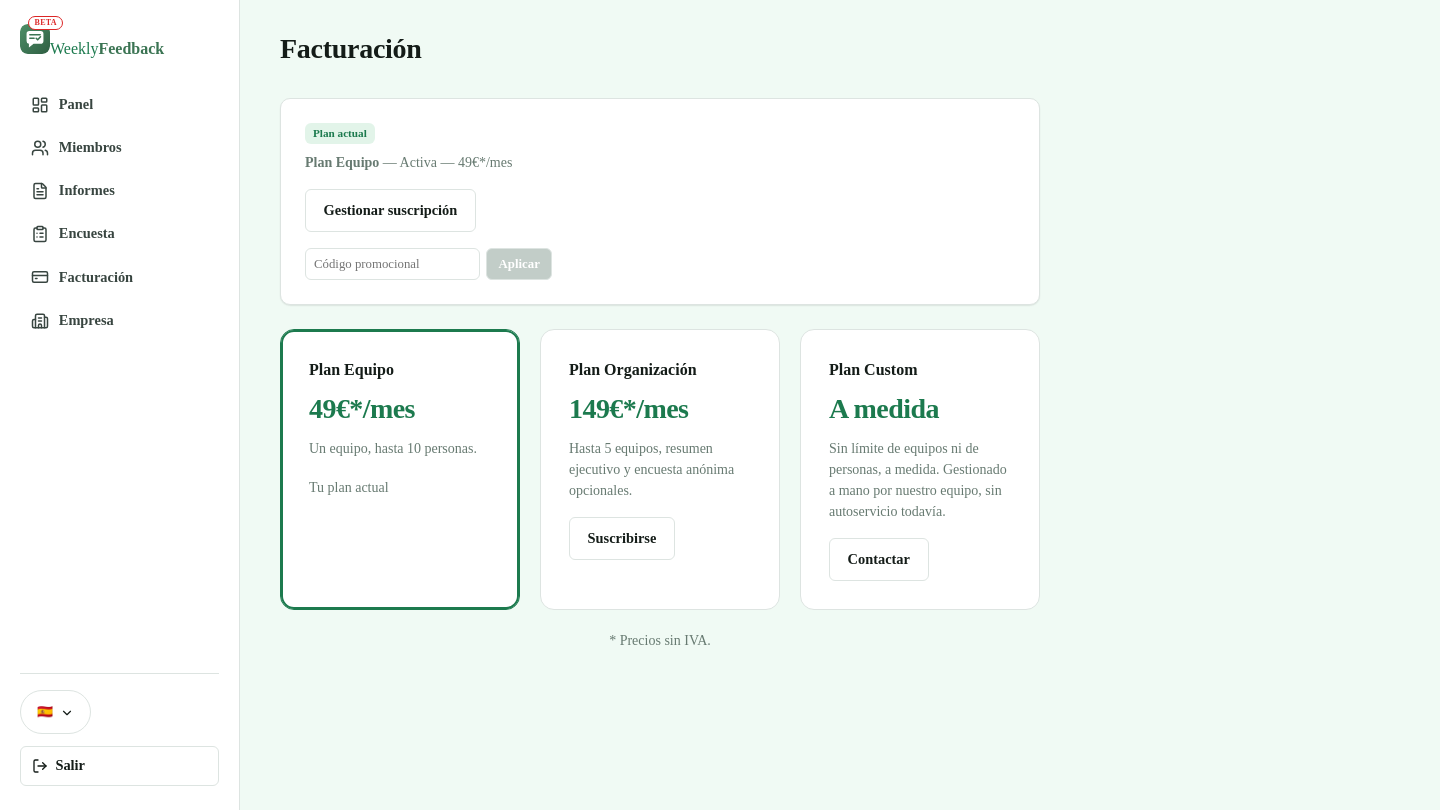
BillingPage — con suscripción activa: cambiar de plan se confirma antes › subir de plan (Equipo → Organización) muestra el aviso de upgrade, no el de downgrade
The image size is (1440, 810).
Expected: the text "Tu plan actual" is shown, [309, 480, 389, 495]
Click the button "Suscribirse".
click(622, 538)  # box [569, 517, 675, 560]
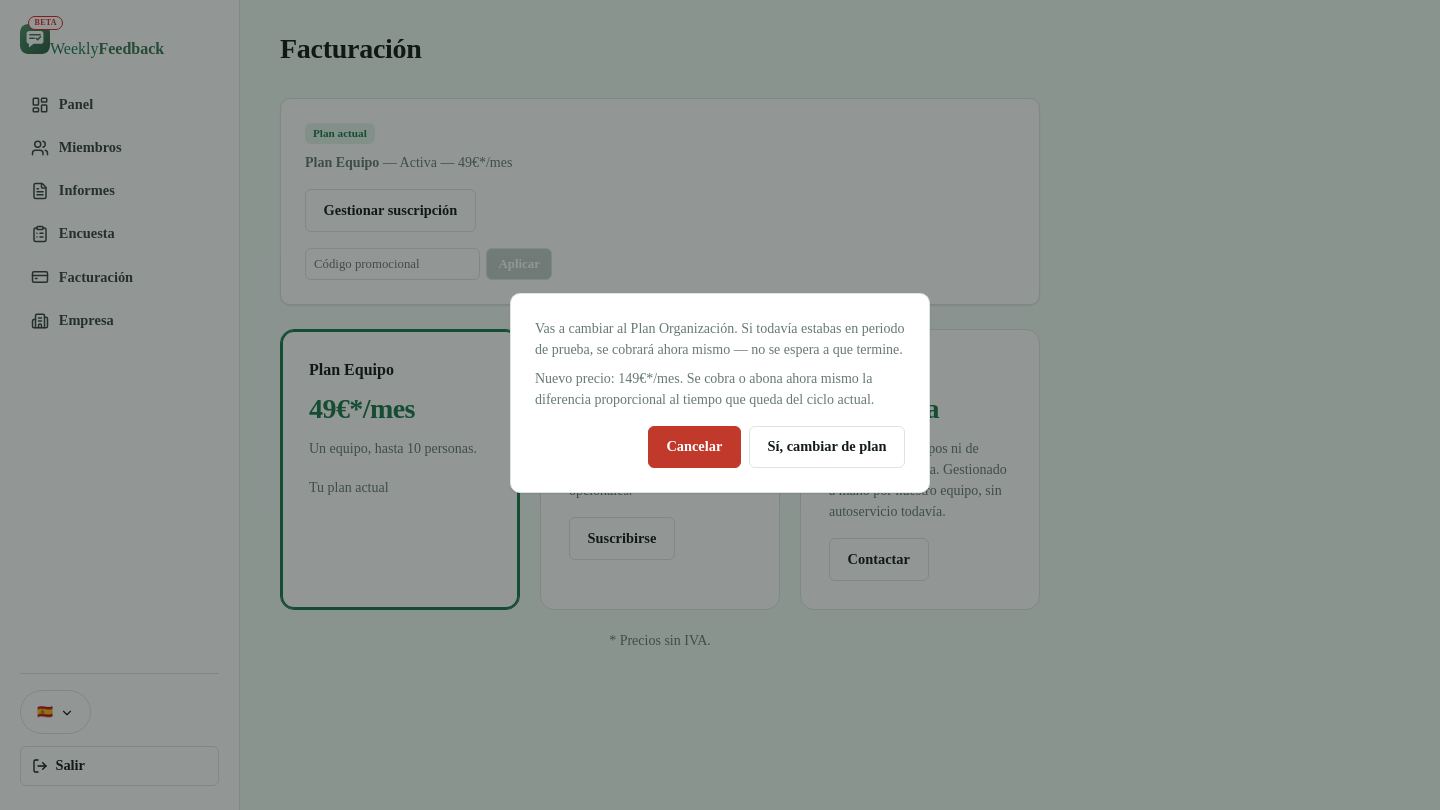
Expected: the text "Vas a cambiar al Plan Organización" is shown, [535, 321, 904, 357]
